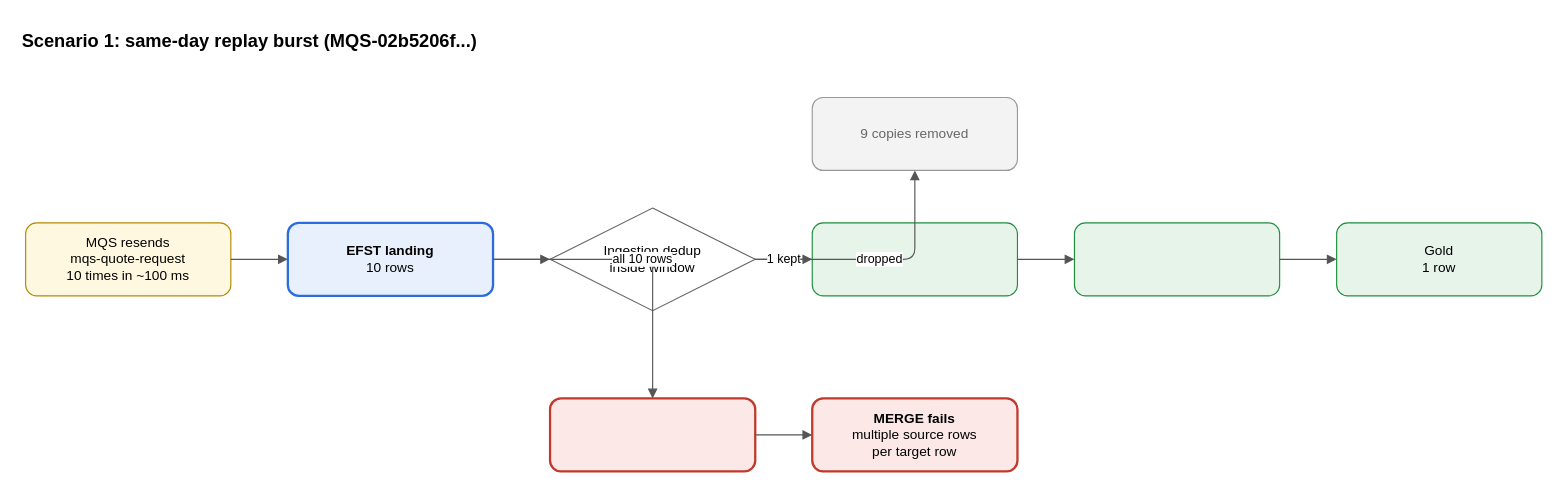
The diagram is 1562 pixels wide and 491 high, and some of its shapes have lost their labels. The shapes that lost their labels are listed below. From the top down, each one's box as (x1, y1, x2, y2) in pixels, then its label:
(811, 222, 1017, 296): Bronze + enrichment 1 row
(1073, 222, 1280, 296): Silver 1 row
(548, 397, 756, 472): DVLA retention reads all 10 landing rows
